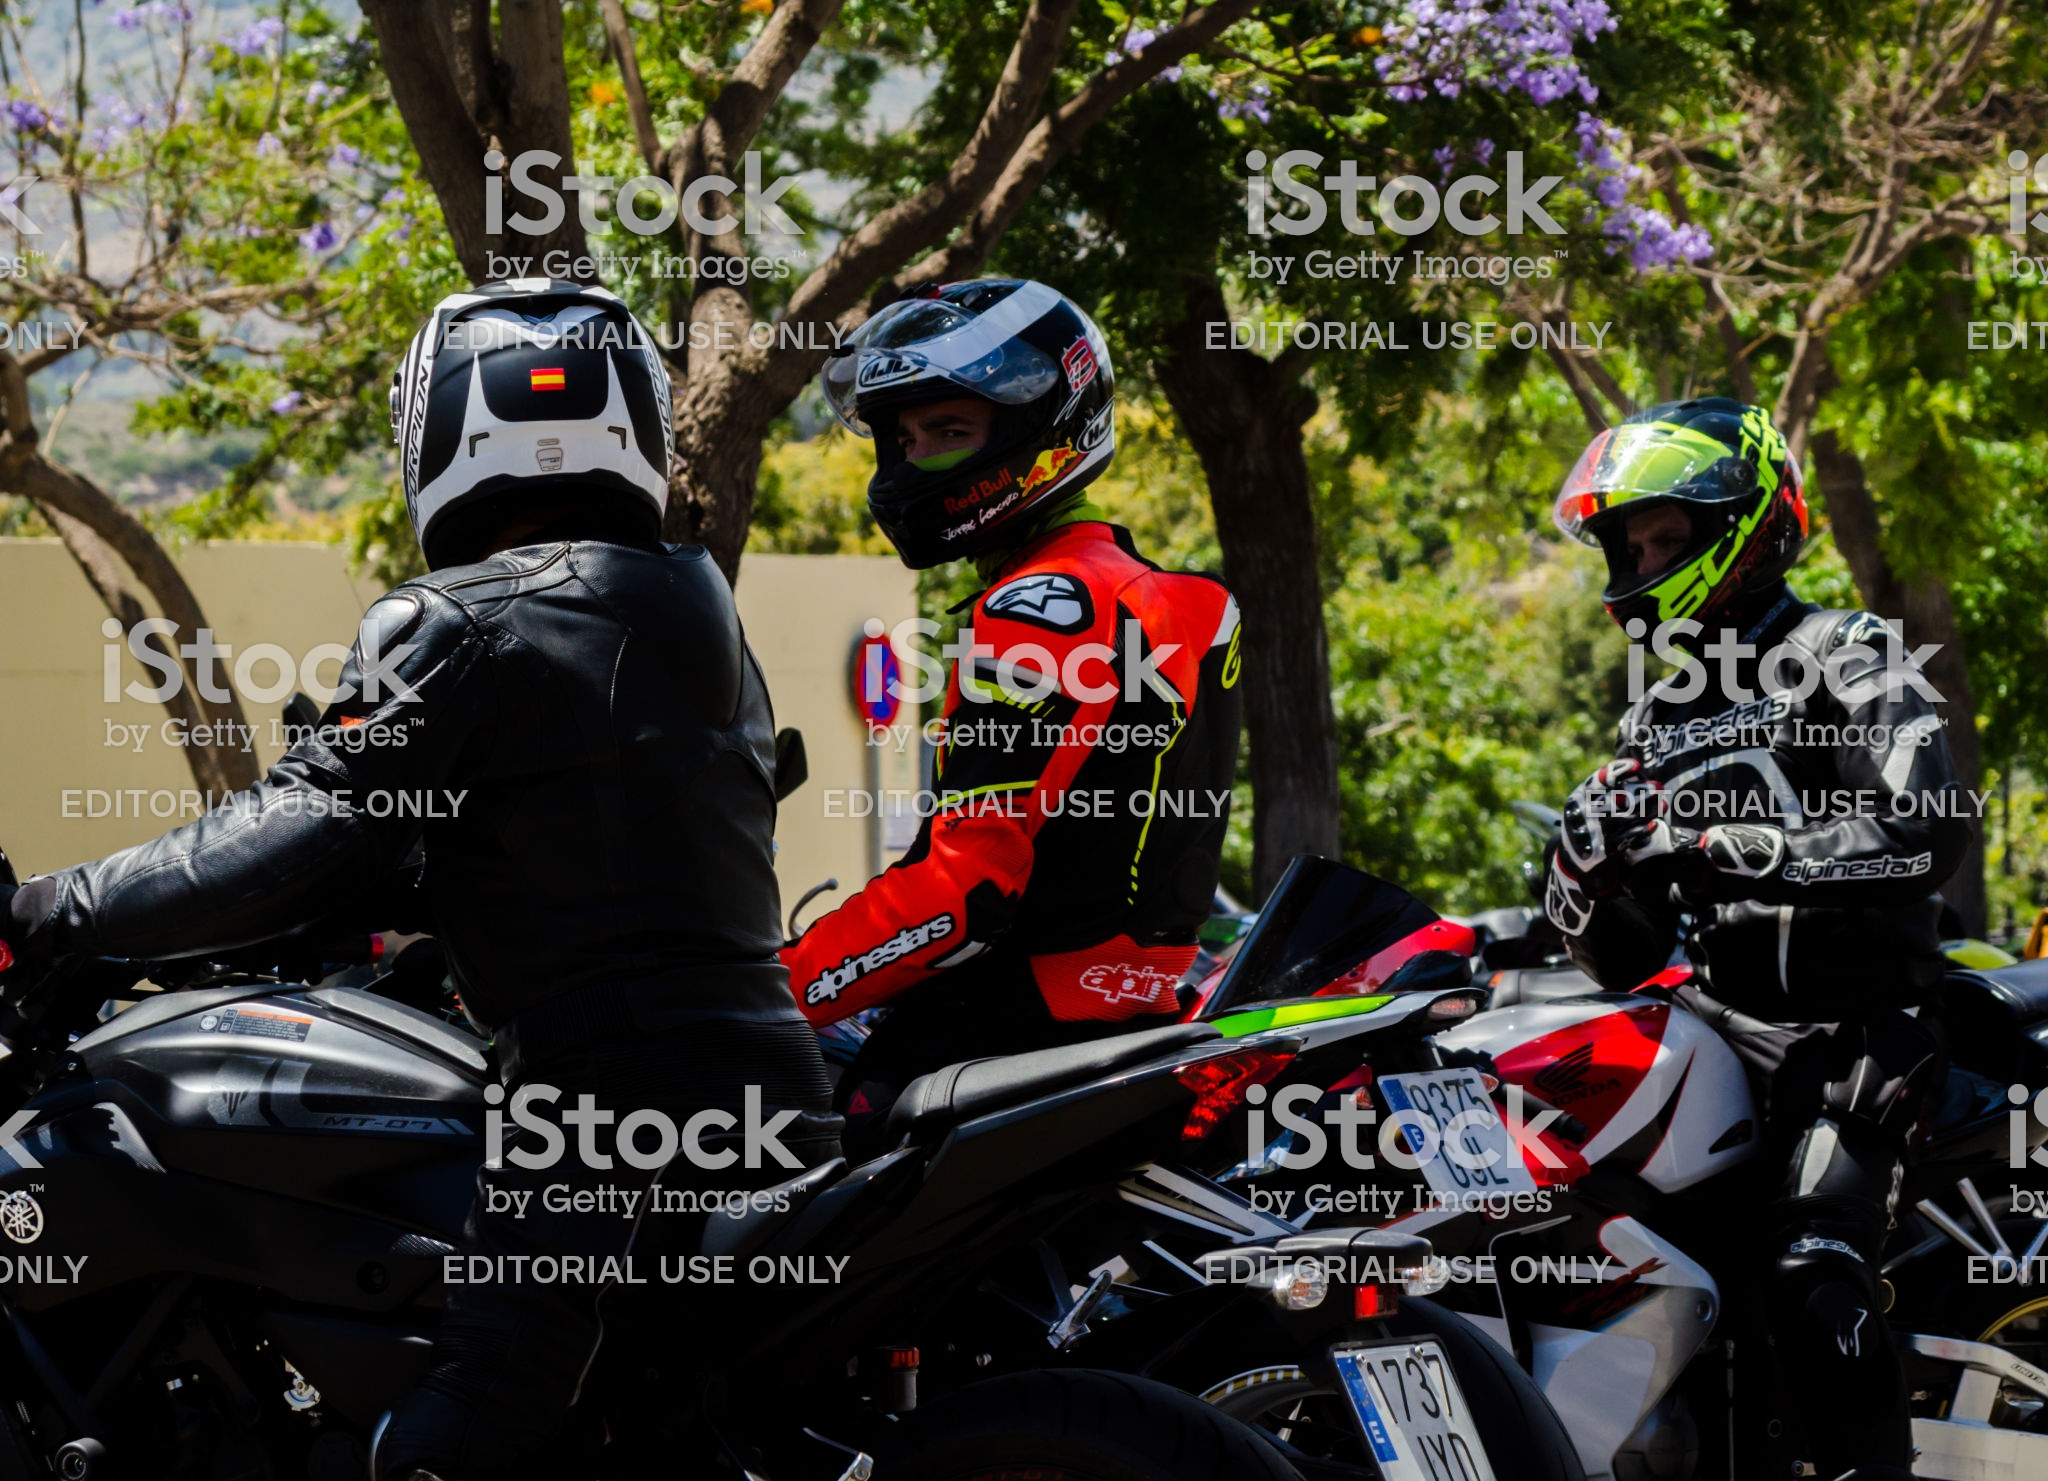helmet: (824, 267, 1161, 536), (353, 278, 676, 536), (1557, 361, 1814, 611)
